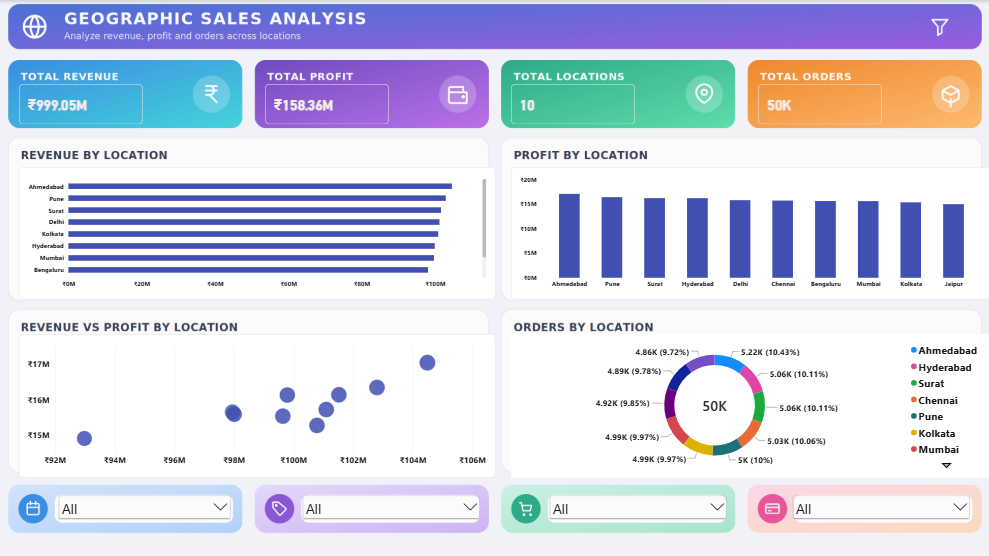

The page's visual inventory and layout, read from the dashboard file:
{"tool":"powerbi","page":{"name":"Geographic Sales Analysis","canvas":[1920,1080],"ordinal":6},"visuals":[{"type":"cardVisual","fields":{"Data":["retail_sales_cleaned.Total Revenue"]},"box":[39,162.7,240.7,78.1],"z":0},{"type":"cardVisual","fields":{"Data":["retail_sales_cleaned.Total Profit"]},"box":[514,162.7,240.7,78.1],"z":1},{"type":"cardVisual","fields":{"Data":["retail_sales_cleaned.Total Locations"]},"box":[991.1,162.7,240.7,78.1],"z":2},{"type":"cardVisual","fields":{"Data":["retail_sales_cleaned.Total Orders"]},"box":[1468.2,162.7,240.7,78.1],"z":3},{"type":"clusteredBarChart","fields":{"Category":["retail_sales_cleaned.Location"],"Y":["retail_sales_cleaned.Total Revenue"]},"box":[39,323.1,921.7,255.9],"z":4},{"type":"clusteredColumnChart","fields":{"Category":["retail_sales_cleaned.Location"],"Y":["retail_sales_cleaned.Total Profit"]},"box":[991.1,323.1,928.2,255.9],"z":5},{"type":"scatterChart","fields":{"Category":["retail_sales_cleaned.Location"],"Size":["retail_sales_cleaned.Total Revenue"],"X":["retail_sales_cleaned.Total Revenue"],"Y":["retail_sales_cleaned.Total Profit"]},"box":[39,646.3,921.7,277.6],"z":6},{"type":"donutChart","fields":{"Category":["retail_sales_cleaned.Location"],"Y":["Count(retail_sales_cleaned.Order_ID)"]},"box":[991.1,646.3,928.2,277.6],"z":7},{"type":"slicer","fields":{"Values":["retail_sales_cleaned.Year"]},"box":[110.6,954.2,342.7,58.6],"z":8},{"type":"slicer","fields":{"Values":["retail_sales_cleaned.Category"]},"box":[583.4,954.2,353.5,58.6],"z":9},{"type":"slicer","fields":{"Values":["retail_sales_cleaned.Order_Channel"]},"box":[1060.5,954.2,353.5,58.6],"z":10},{"type":"slicer","fields":{"Values":["retail_sales_cleaned.Payment_Mode"]},"box":[1531.1,954.2,353.5,58.6],"z":11}]}

Visuals, with their boxes in screenshot pixels (x1, y1, x2, y2), scaled from the page's 1920x1080 canvas onto the 989x556 screenshot:
cardVisual - retail_sales_cleaned.Total Revenue: x1=20, y1=84, x2=144, y2=124
cardVisual - retail_sales_cleaned.Total Profit: x1=265, y1=84, x2=389, y2=124
cardVisual - retail_sales_cleaned.Total Locations: x1=511, y1=84, x2=635, y2=124
cardVisual - retail_sales_cleaned.Total Orders: x1=756, y1=84, x2=880, y2=124
clusteredBarChart - retail_sales_cleaned.Location x retail_sales_cleaned.Total Revenue: x1=20, y1=166, x2=495, y2=298
clusteredColumnChart - retail_sales_cleaned.Location x retail_sales_cleaned.Total Profit: x1=511, y1=166, x2=988, y2=298
scatterChart - retail_sales_cleaned.Location x retail_sales_cleaned.Total Revenue: x1=20, y1=333, x2=495, y2=476
donutChart - retail_sales_cleaned.Location x Count(retail_sales_cleaned.Order_ID): x1=511, y1=333, x2=988, y2=476
slicer - retail_sales_cleaned.Year: x1=57, y1=491, x2=233, y2=521
slicer - retail_sales_cleaned.Category: x1=301, y1=491, x2=483, y2=521
slicer - retail_sales_cleaned.Order_Channel: x1=546, y1=491, x2=728, y2=521
slicer - retail_sales_cleaned.Payment_Mode: x1=789, y1=491, x2=971, y2=521
